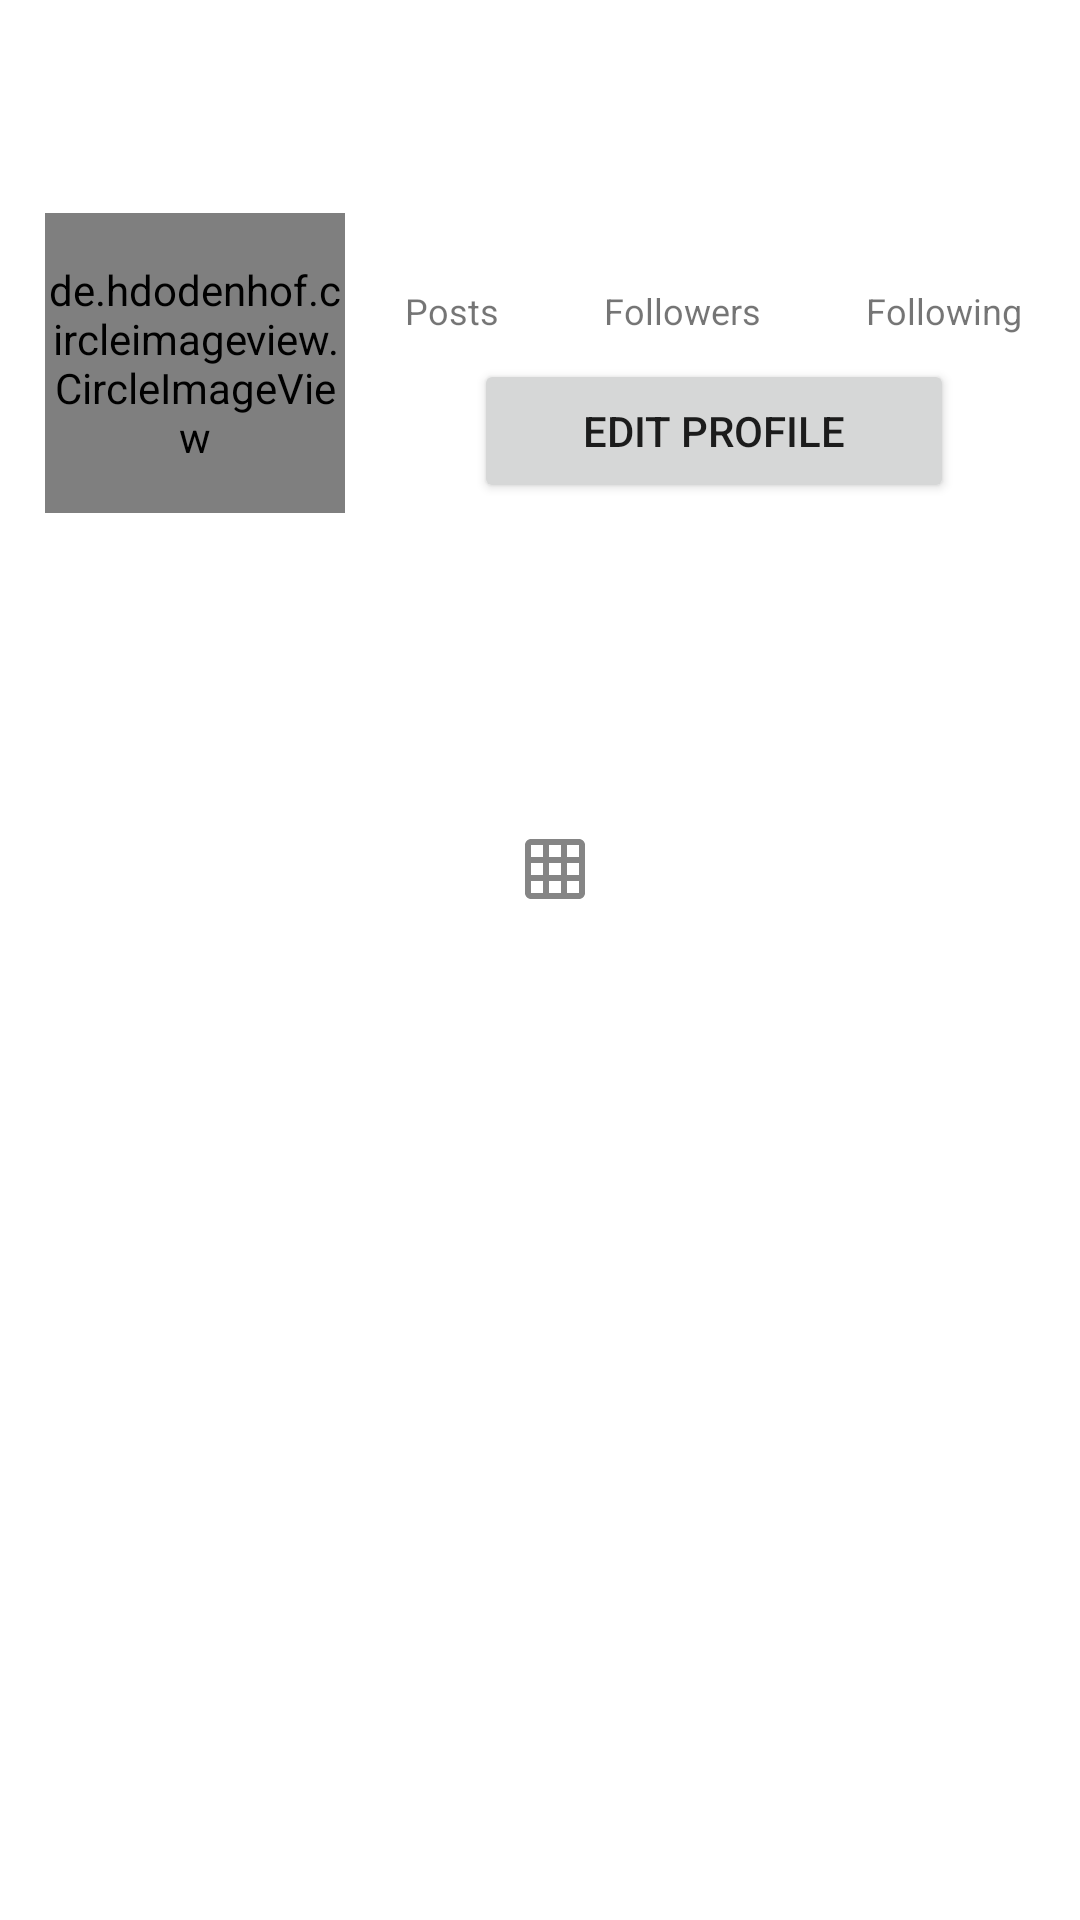

Named icons in this screenshot (1080w x 1920h) and their bounding boxes, box=[x1, y1, x2, y2]:
grid: box=[525, 839, 585, 899]
